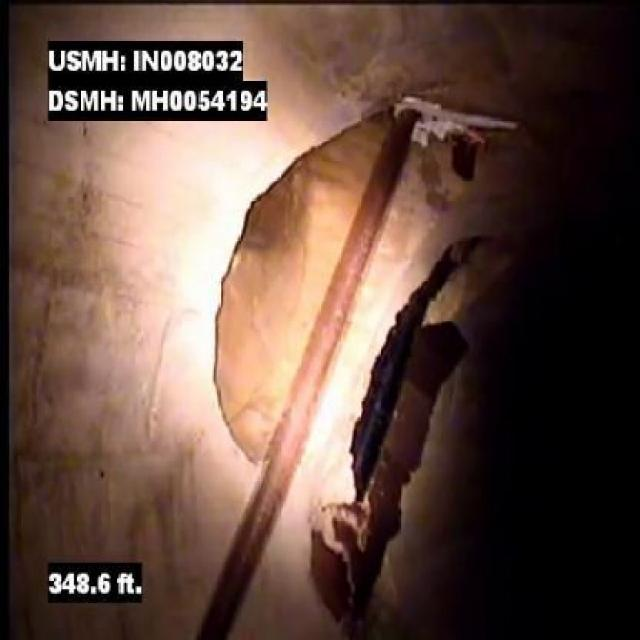Utility intrusion: (192, 412, 316, 636), (332, 97, 423, 277), (362, 286, 443, 479), (285, 278, 363, 409)
